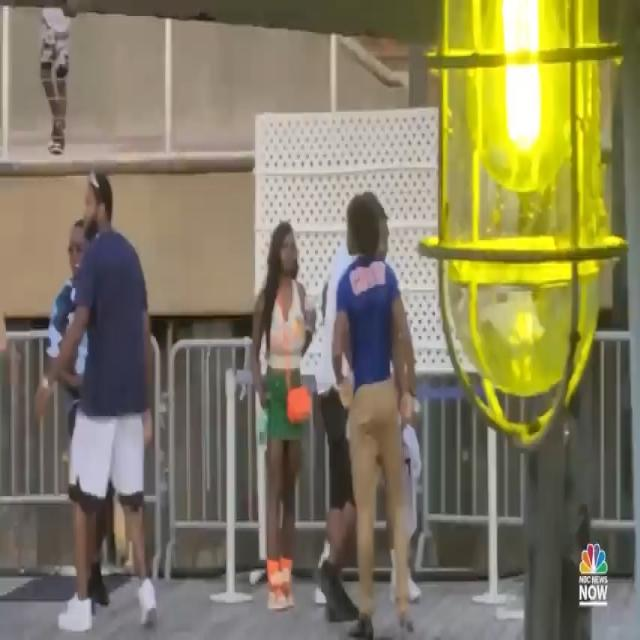non-fight: (233, 182, 431, 640), (26, 161, 166, 640)
